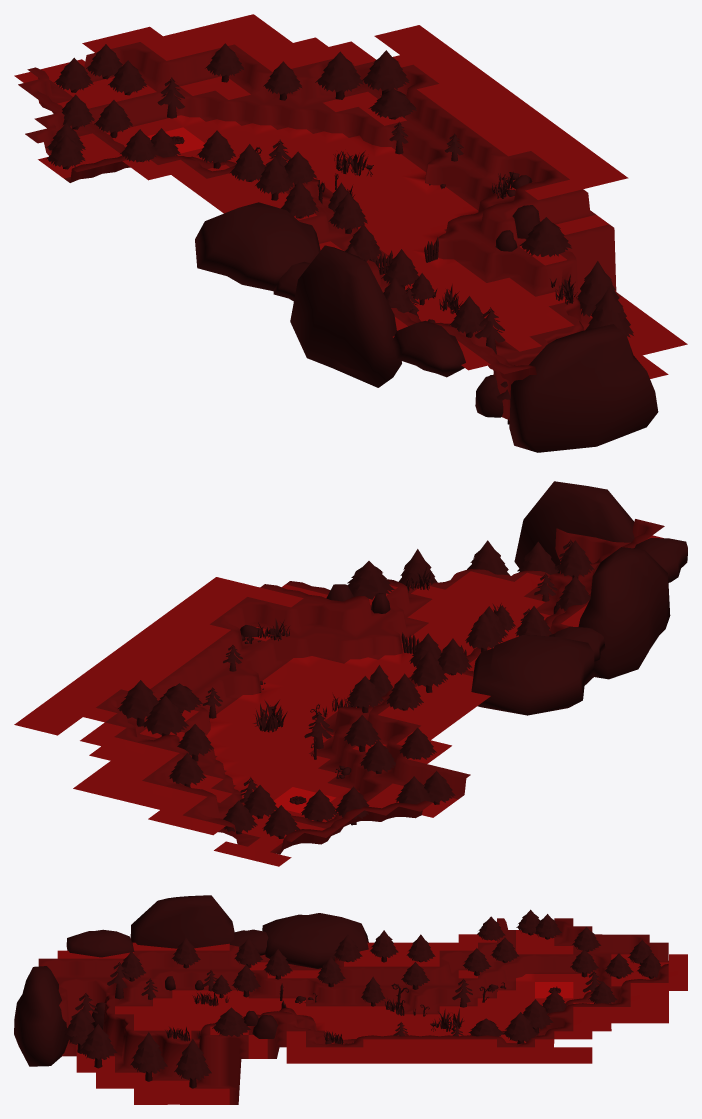
3 views of the same model, one above another, from view 1: azimuth 30°, elevation 25°; view 2: azimuth 150°, elevation 25°; view 3: azimuth 270°, elevation 25° (orthographic). The views are drawn at different scales.
Parts seen in each view (by area): view 1: polySurface3543; view 2: polySurface3543; view 3: polySurface3543.
Part boxes in pixels (x1=…): polySurface3543: x1=14, y1=14, x2=687, y2=452; polySurface3543: x1=14, y1=481, x2=687, y2=866; polySurface3543: x1=14, y1=895, x2=687, y2=1104.
Size of the model in its own units: 54.76 by 17.85 by 107.
